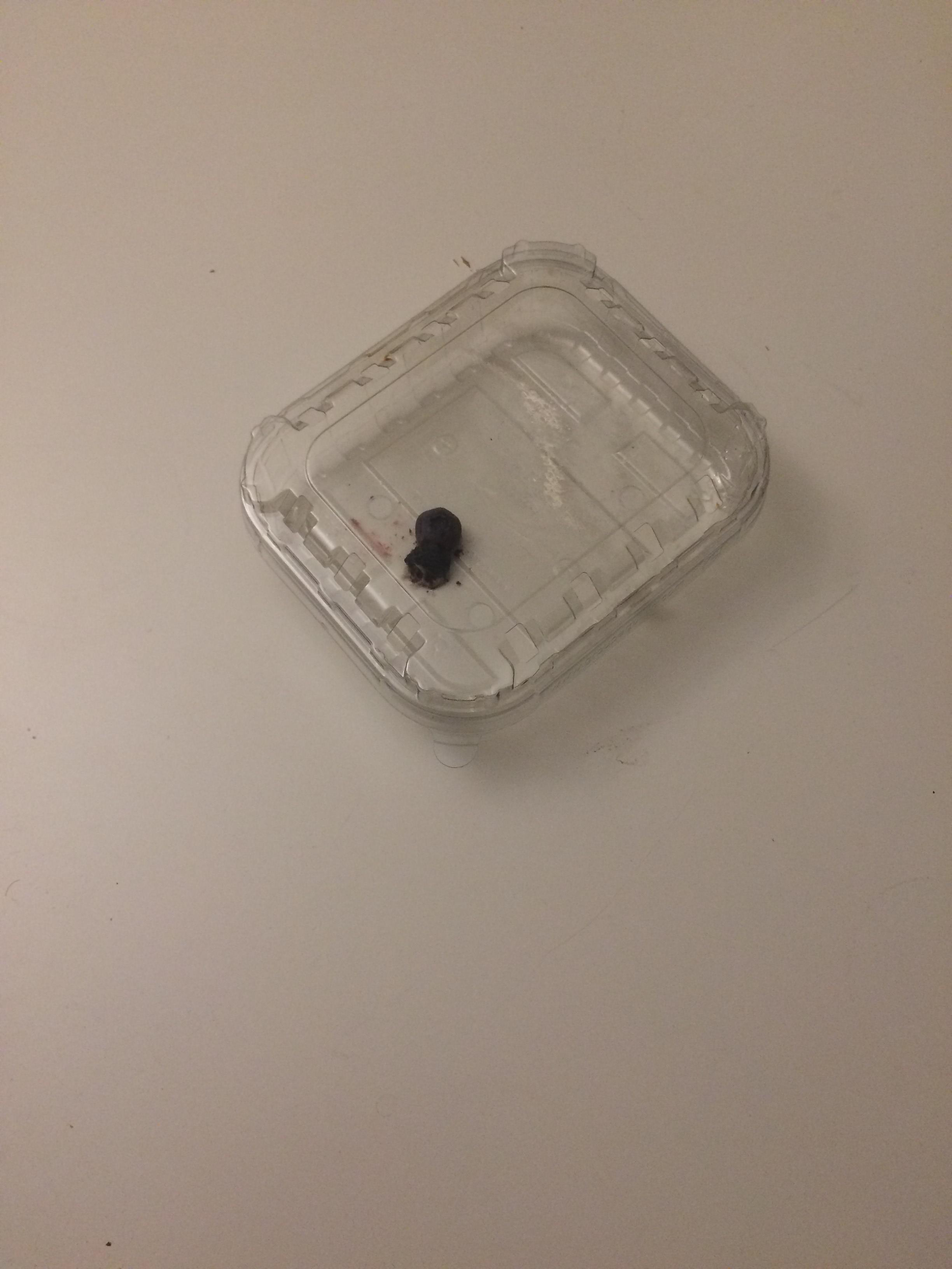Plastic: (218, 214, 779, 747)
